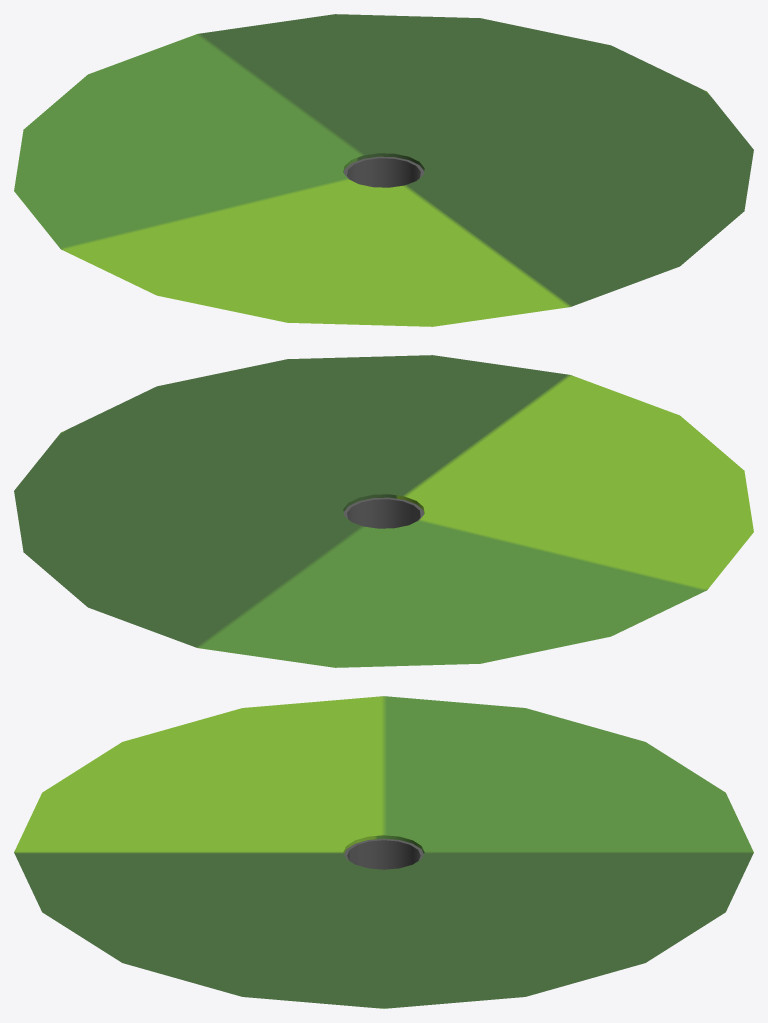
The model's file is cup.glb.
3 views of the same model, one above another, from view 1: azimuth 30°, elevation 25°; view 2: azimuth 150°, elevation 25°; view 3: azimuth 270°, elevation 25° (orthographic).
Parts seen in each view (by area): view 1: Cup; view 2: Cup; view 3: Cup.
Part boxes in pixels (x1,y1,x2,y2): Cup: (14, 14, 753, 326); Cup: (14, 355, 753, 667); Cup: (14, 696, 753, 1008).
Bounding box in the file's own units: 4 × 0.4 × 4.
Materials: 2 (1 with a texture image).
